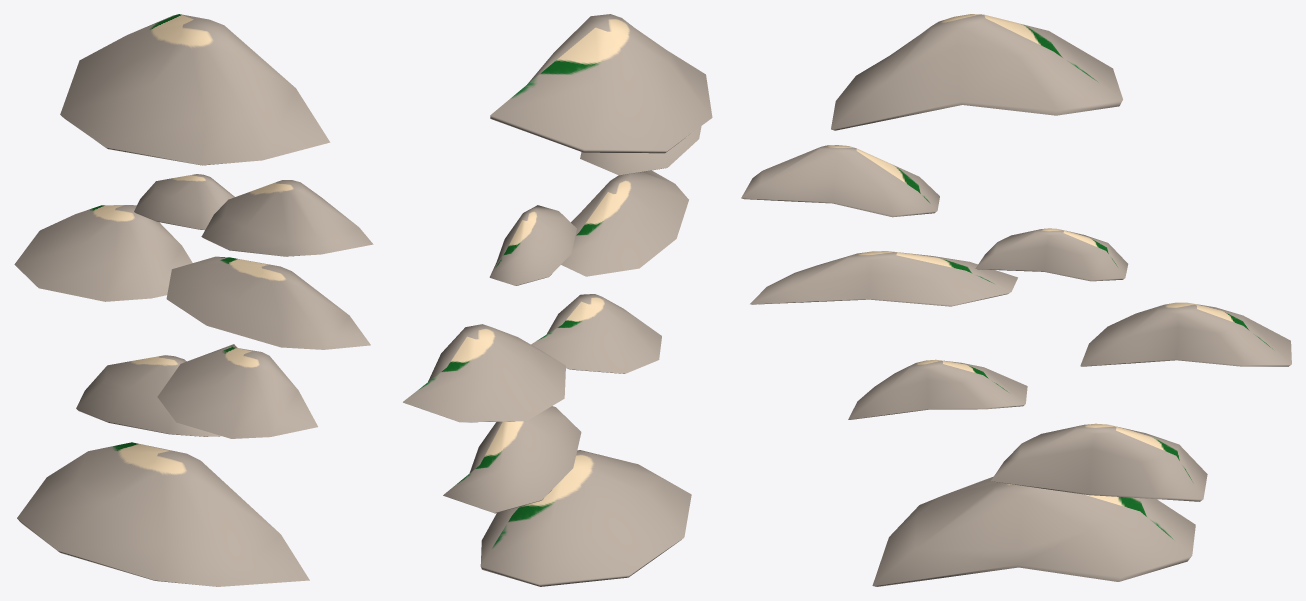
File: Muschroom_Tree_01.fbx
The picture shows the model from 3 angles, left to right: view 1: azimuth 30°, elevation 25°; view 2: azimuth 150°, elevation 25°; view 3: azimuth 270°, elevation 25°; orthographic projection. The views are drawn at different scales.
Visible parts, largest first — view 1: Muschroom_Tree_01; view 2: Muschroom_Tree_01; view 3: Muschroom_Tree_01.
Boxes of the visible parts, x1,y1,x2,y2 form: Muschroom_Tree_01: [14, 14, 373, 586]; Muschroom_Tree_01: [403, 14, 712, 586]; Muschroom_Tree_01: [741, 14, 1291, 586].
Size of the model in its own units: 30.13 by 86.76 by 80.19.
1 material, 1 textured.
